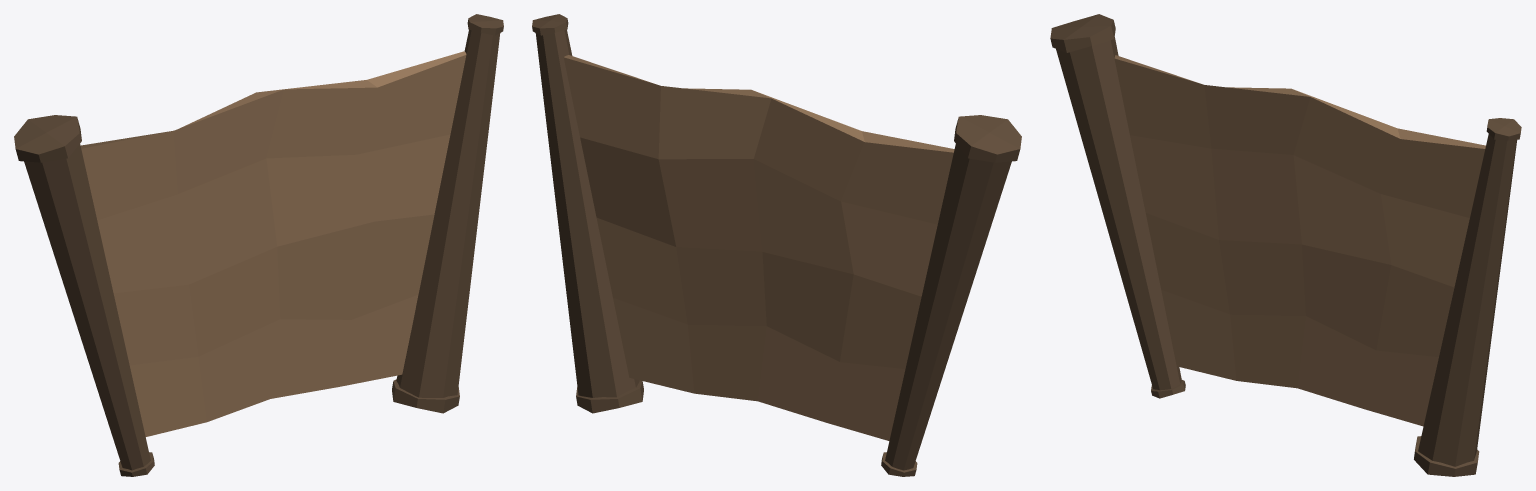
File: Parchment_5_Brown.fbx
3 renders of one model, left to right at view 1: azimuth 30°, elevation 25°; view 2: azimuth 150°, elevation 25°; view 3: azimuth 330°, elevation 25°, orthographic. The views are drawn at different scales.
Parts seen in each view (by area): view 1: Parchment_5_Brown_Part_2, Parchment_5_Brown_Part_1; view 2: Parchment_5_Brown_Part_2, Parchment_5_Brown_Part_1; view 3: Parchment_5_Brown_Part_2, Parchment_5_Brown_Part_1.
Boxes of the visible parts, x1,y1,x2,y2 form: Parchment_5_Brown_Part_2: [80, 51, 466, 436]; Parchment_5_Brown_Part_1: [14, 14, 503, 476]; Parchment_5_Brown_Part_2: [563, 55, 954, 440]; Parchment_5_Brown_Part_1: [532, 14, 1021, 476]; Parchment_5_Brown_Part_2: [1114, 55, 1485, 426]; Parchment_5_Brown_Part_1: [1050, 14, 1521, 476].
Bounding box in the file's own units: 43.58 × 31.94 × 5.71.
